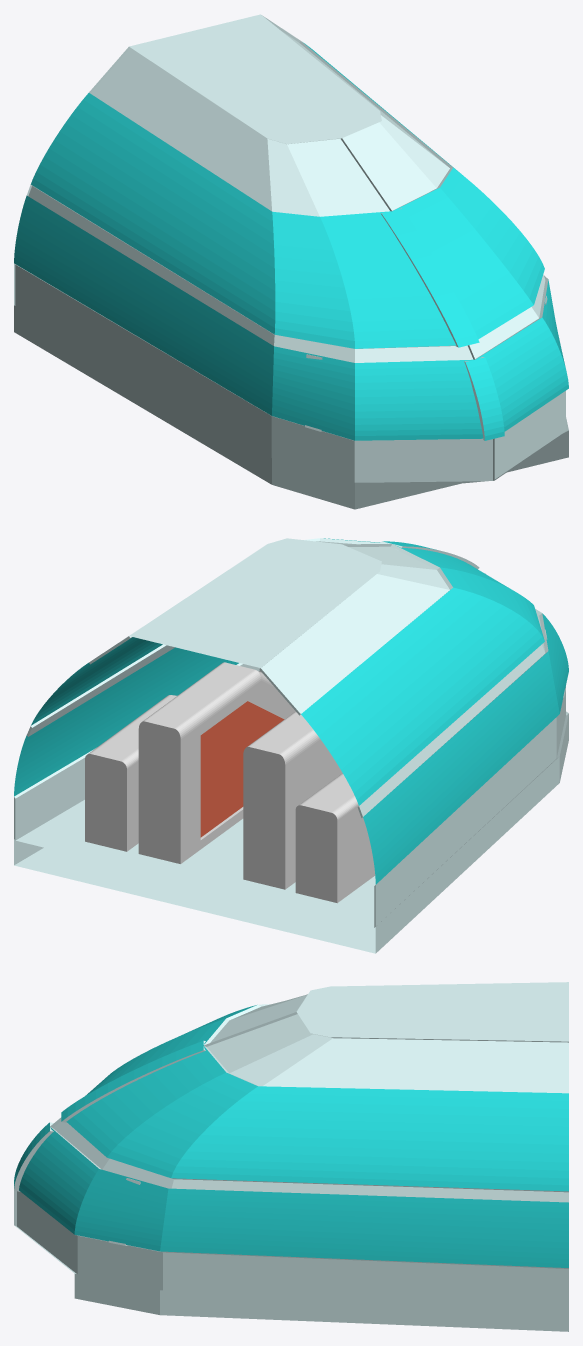
Rendered from interior.fbx.
The picture shows the model from 3 angles, top to bottom: view 1: azimuth 30°, elevation 25°; view 2: azimuth 150°, elevation 25°; view 3: azimuth 270°, elevation 25°; orthographic projection. The views are drawn at different scales.
Visible parts, largest first — view 1: Cube.001; view 2: Cube.001, Cube.004, Cube.002; view 3: Cube.001.
Part boxes in pixels (left/top/right/bottom): Cube.001: left=14, top=14, right=568, bottom=509; Cube.001: left=14, top=538, right=568, bottom=953; Cube.004: left=138, top=662, right=342, bottom=889; Cube.002: left=85, top=670, right=375, bottom=903; Cube.001: left=14, top=982, right=568, bottom=1331.
Size of the model in its own units: 1726 by 1174 by 2478.
